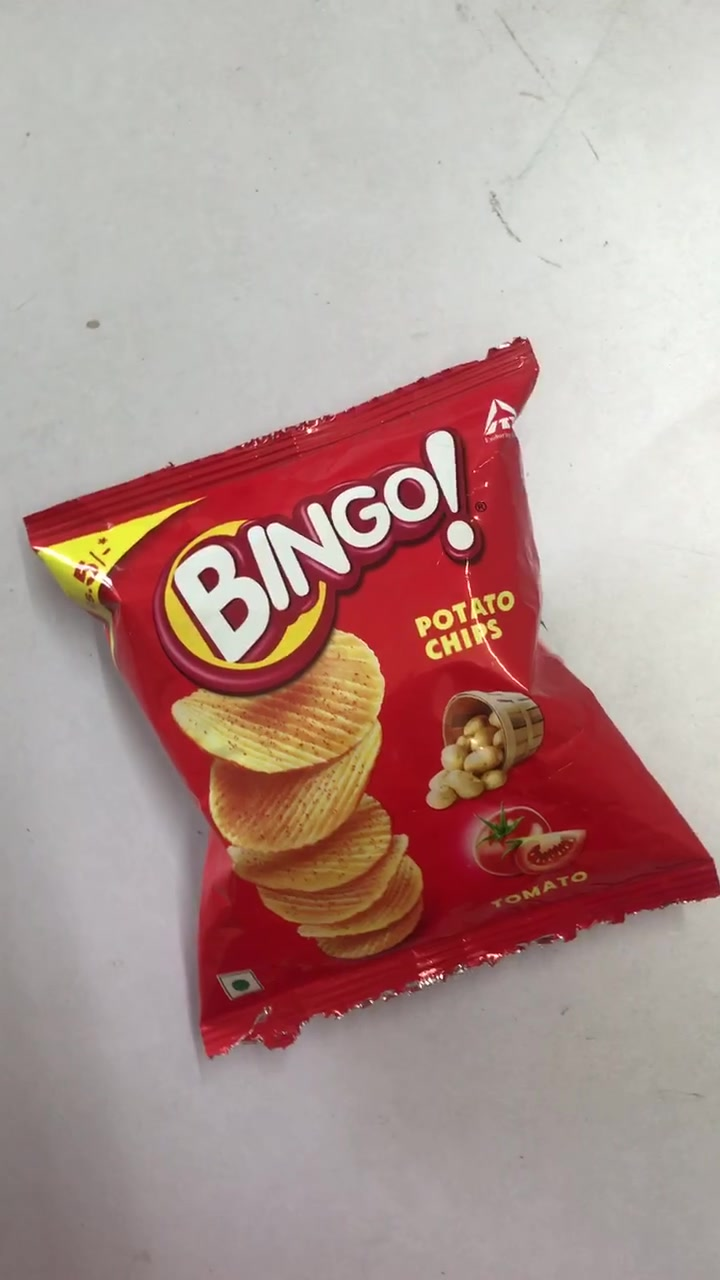Bingo: (26, 339, 720, 1050)
